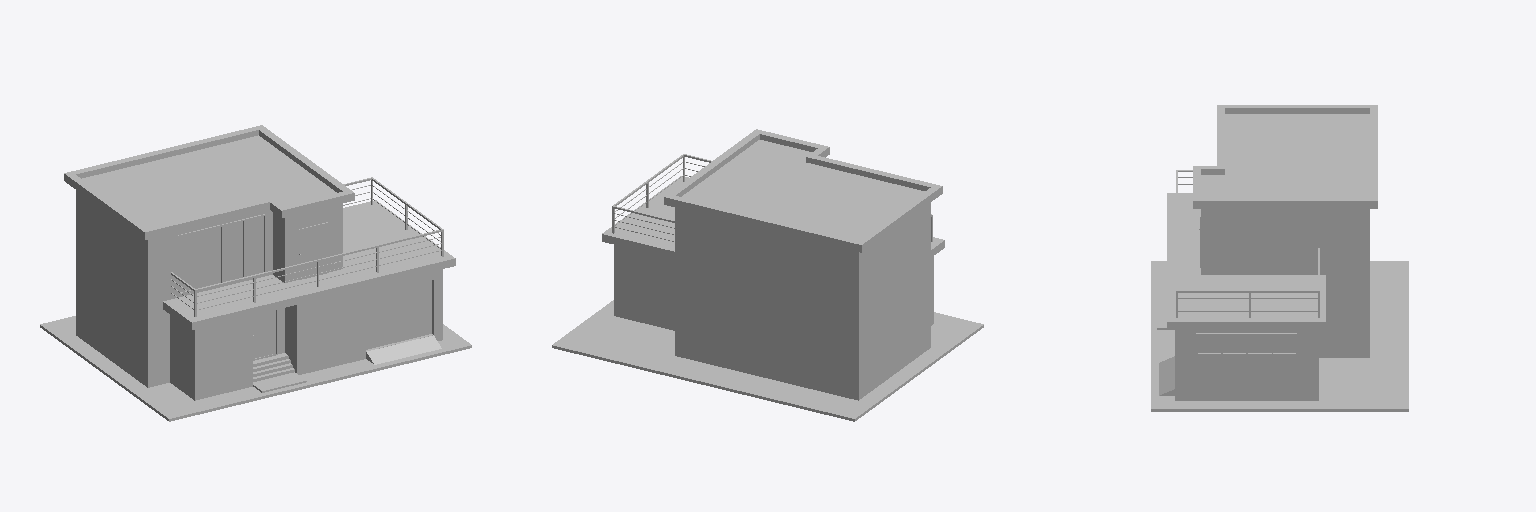
Rendered from Building_House_02_color01.obj.
3 views of the same model, side by side, from view 1: azimuth 30°, elevation 25°; view 2: azimuth 150°, elevation 25°; view 3: azimuth 270°, elevation 25° (orthographic).
Visible parts, largest first — view 1: Building_House_02_color01; view 2: Building_House_02_color01; view 3: Building_House_02_color01.
Boxes of the visible parts, x1=… form: Building_House_02_color01: x1=40, y1=125, x2=471, y2=421; Building_House_02_color01: x1=552, y1=129, x2=983, y2=421; Building_House_02_color01: x1=1151, y1=105, x2=1408, y2=411.
Size of the model in its own units: 692 by 356 by 512.